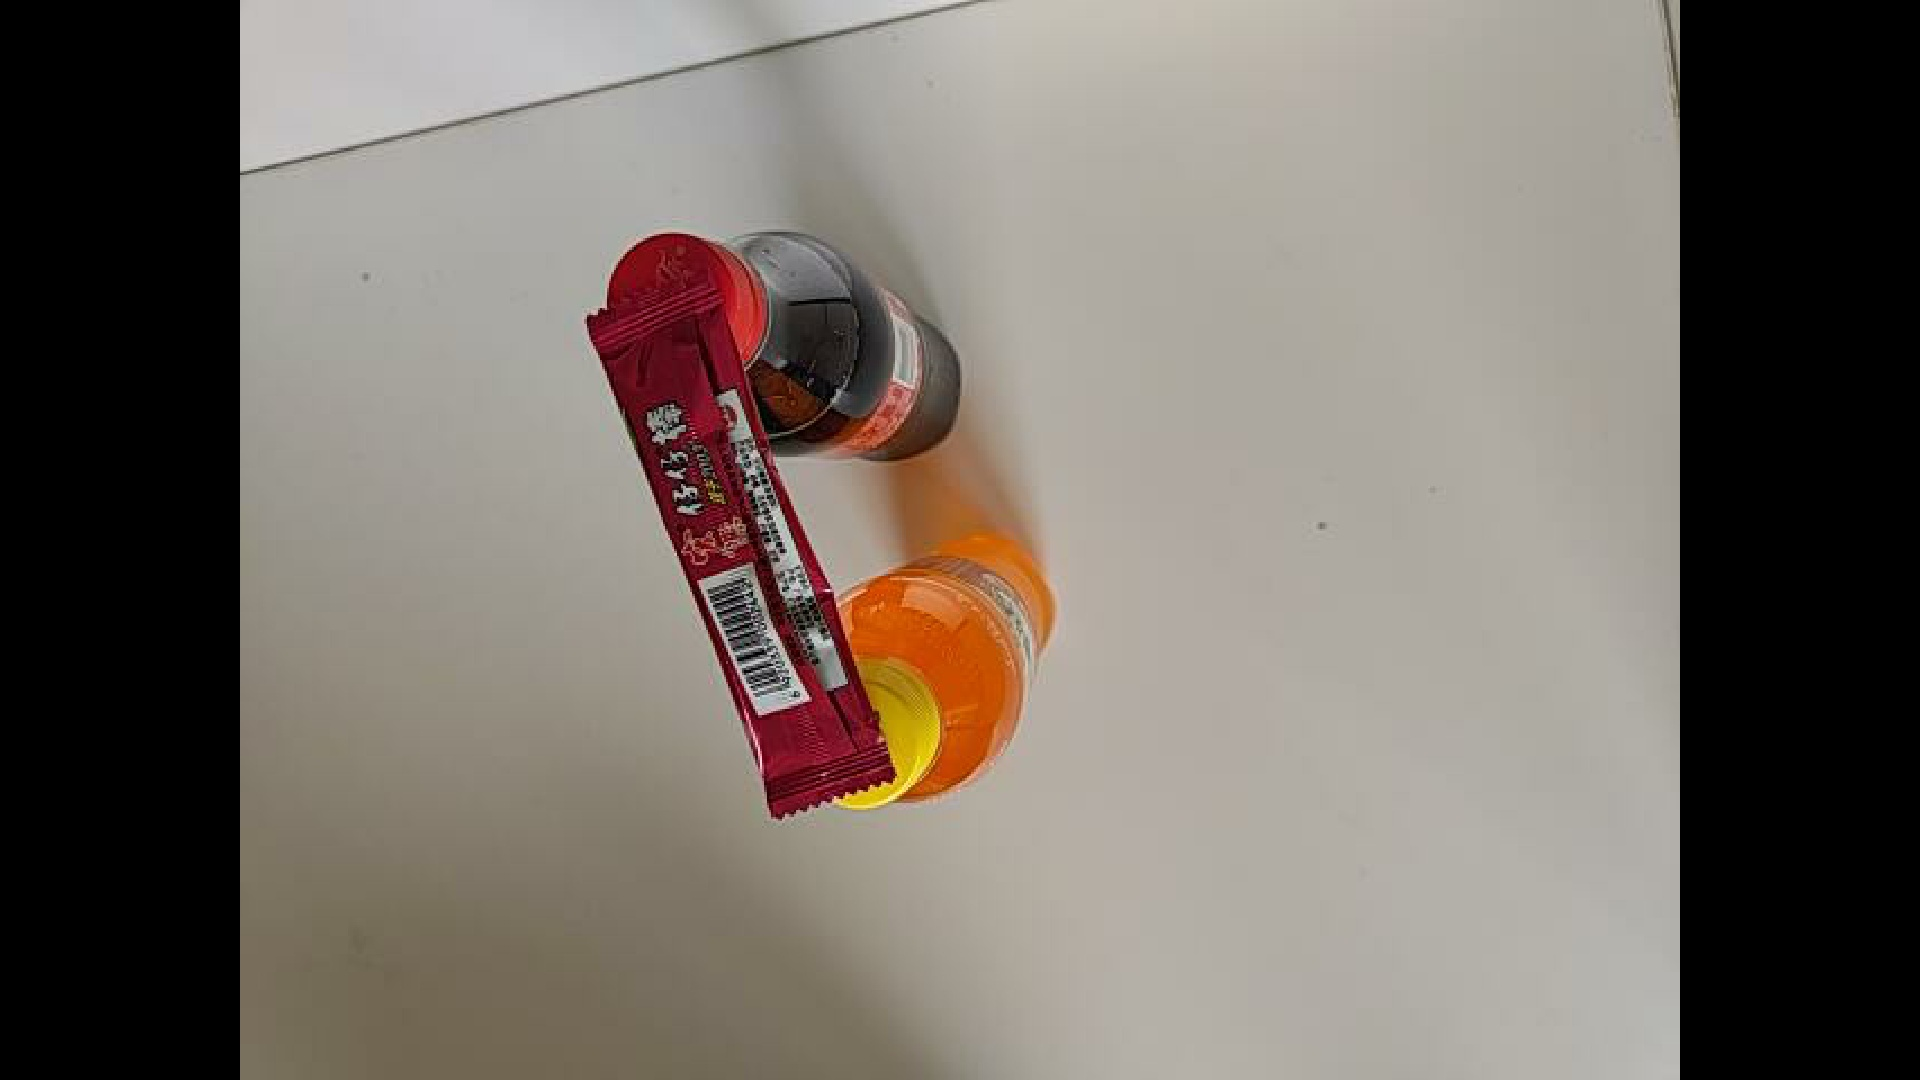cola: (605, 229, 964, 463)
fenta: (810, 530, 1059, 815)
sugar: (575, 281, 1064, 831)
